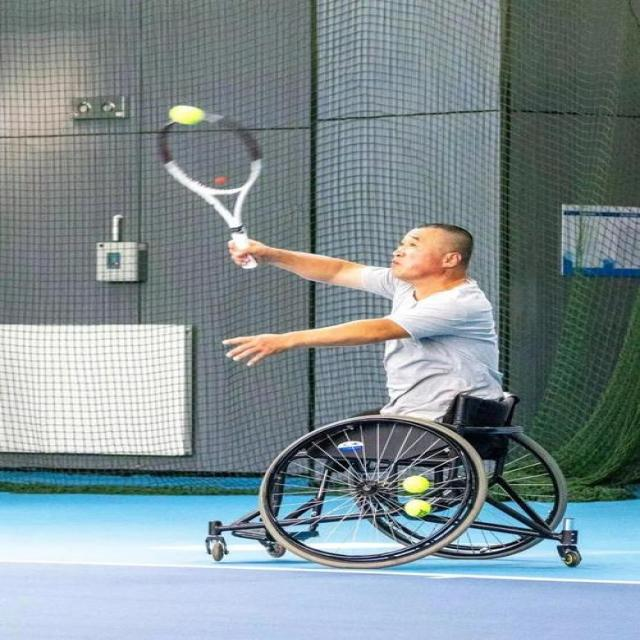wheelchairs: (191, 379, 610, 585)
